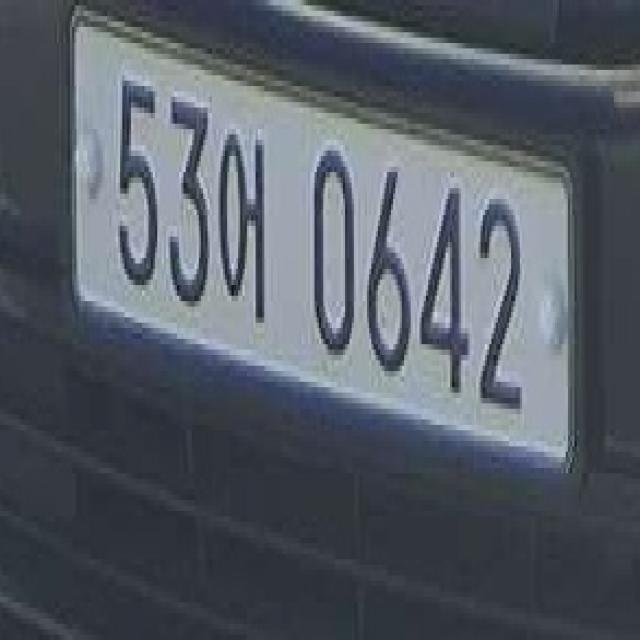0: (308, 118, 360, 393)
2: (476, 183, 526, 419)
3: (157, 65, 214, 328)
4: (415, 161, 472, 425)
5: (109, 54, 164, 301)
6: (367, 134, 417, 382)
eo: (219, 107, 286, 339)
